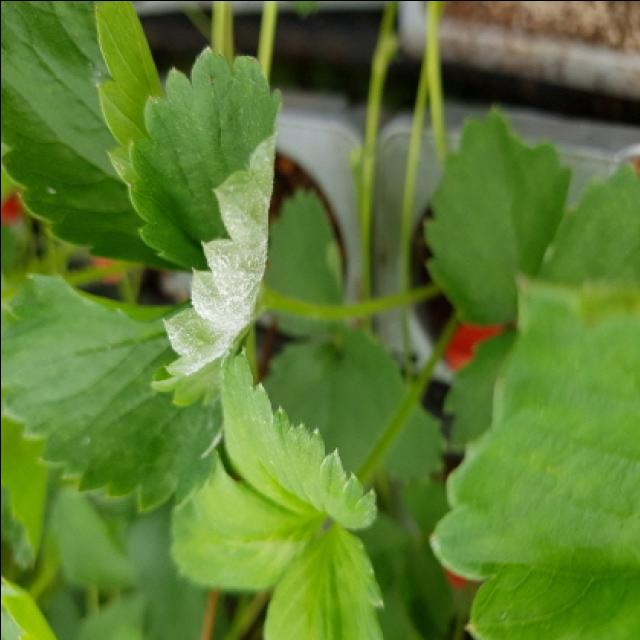Powdery Mildew Leaf: (124, 45, 284, 380)
